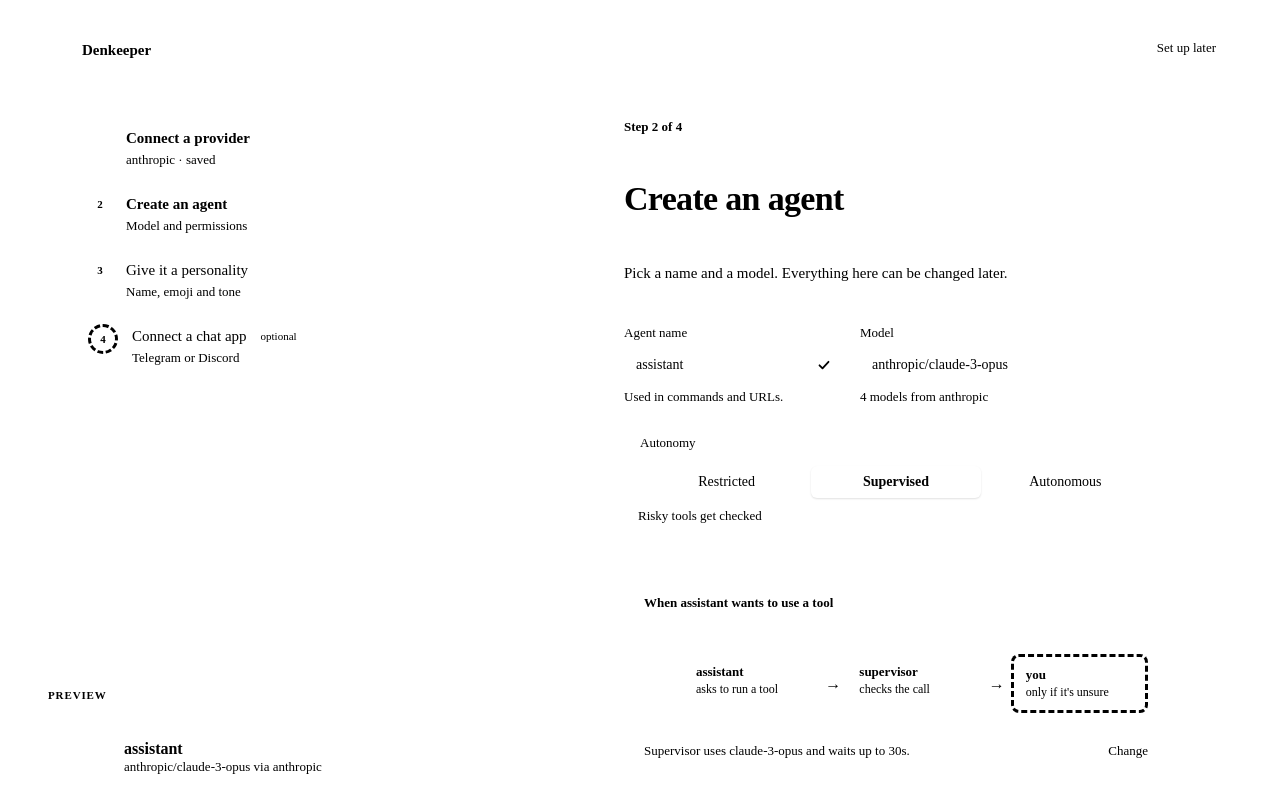
SetupWizard › an invalid agent name is flagged inline and blocks Continue
Expected: the heading reads "Create an agent", [624, 180, 844, 217]
Type "Bad Name" into the field with test id "wizard-agent-name" at (734, 365), box [624, 347, 844, 383]
(page scrolled)
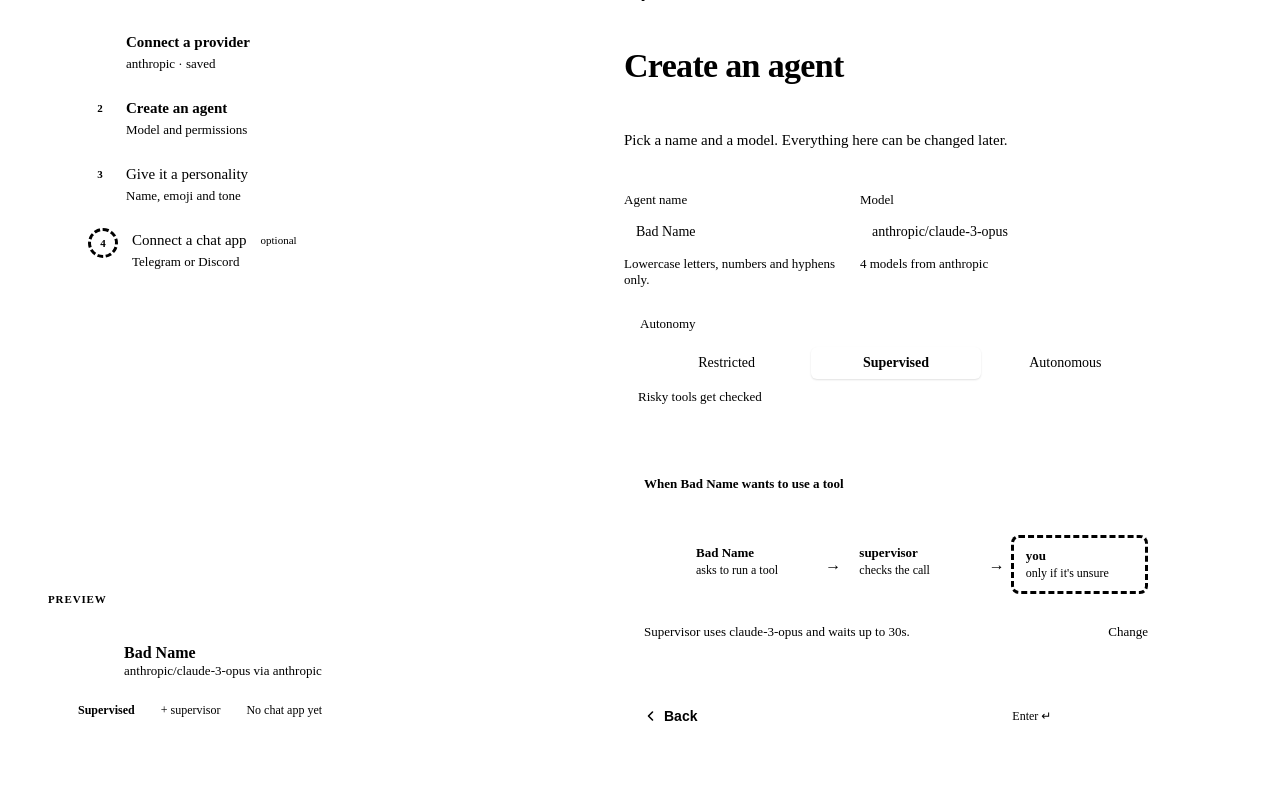
Result: the text "Lowercase letters, numbers and hyphens only." is shown at [624, 256, 844, 288]
